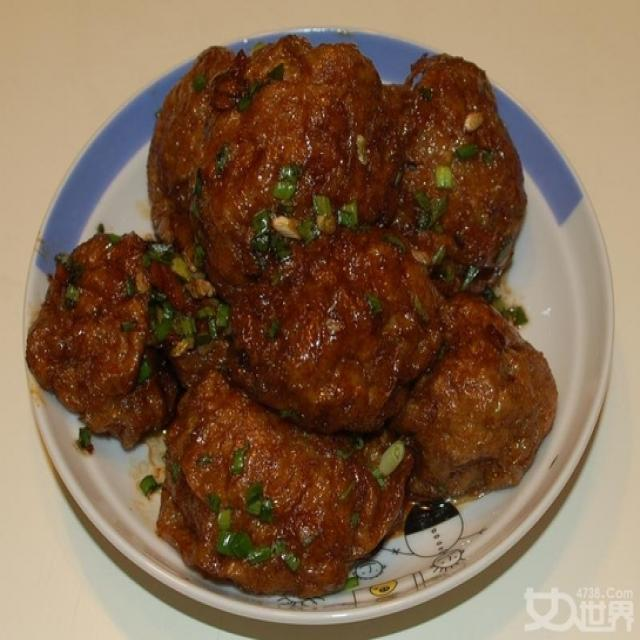Meatball: (124, 29, 406, 300), (144, 349, 377, 606), (218, 221, 440, 427)
